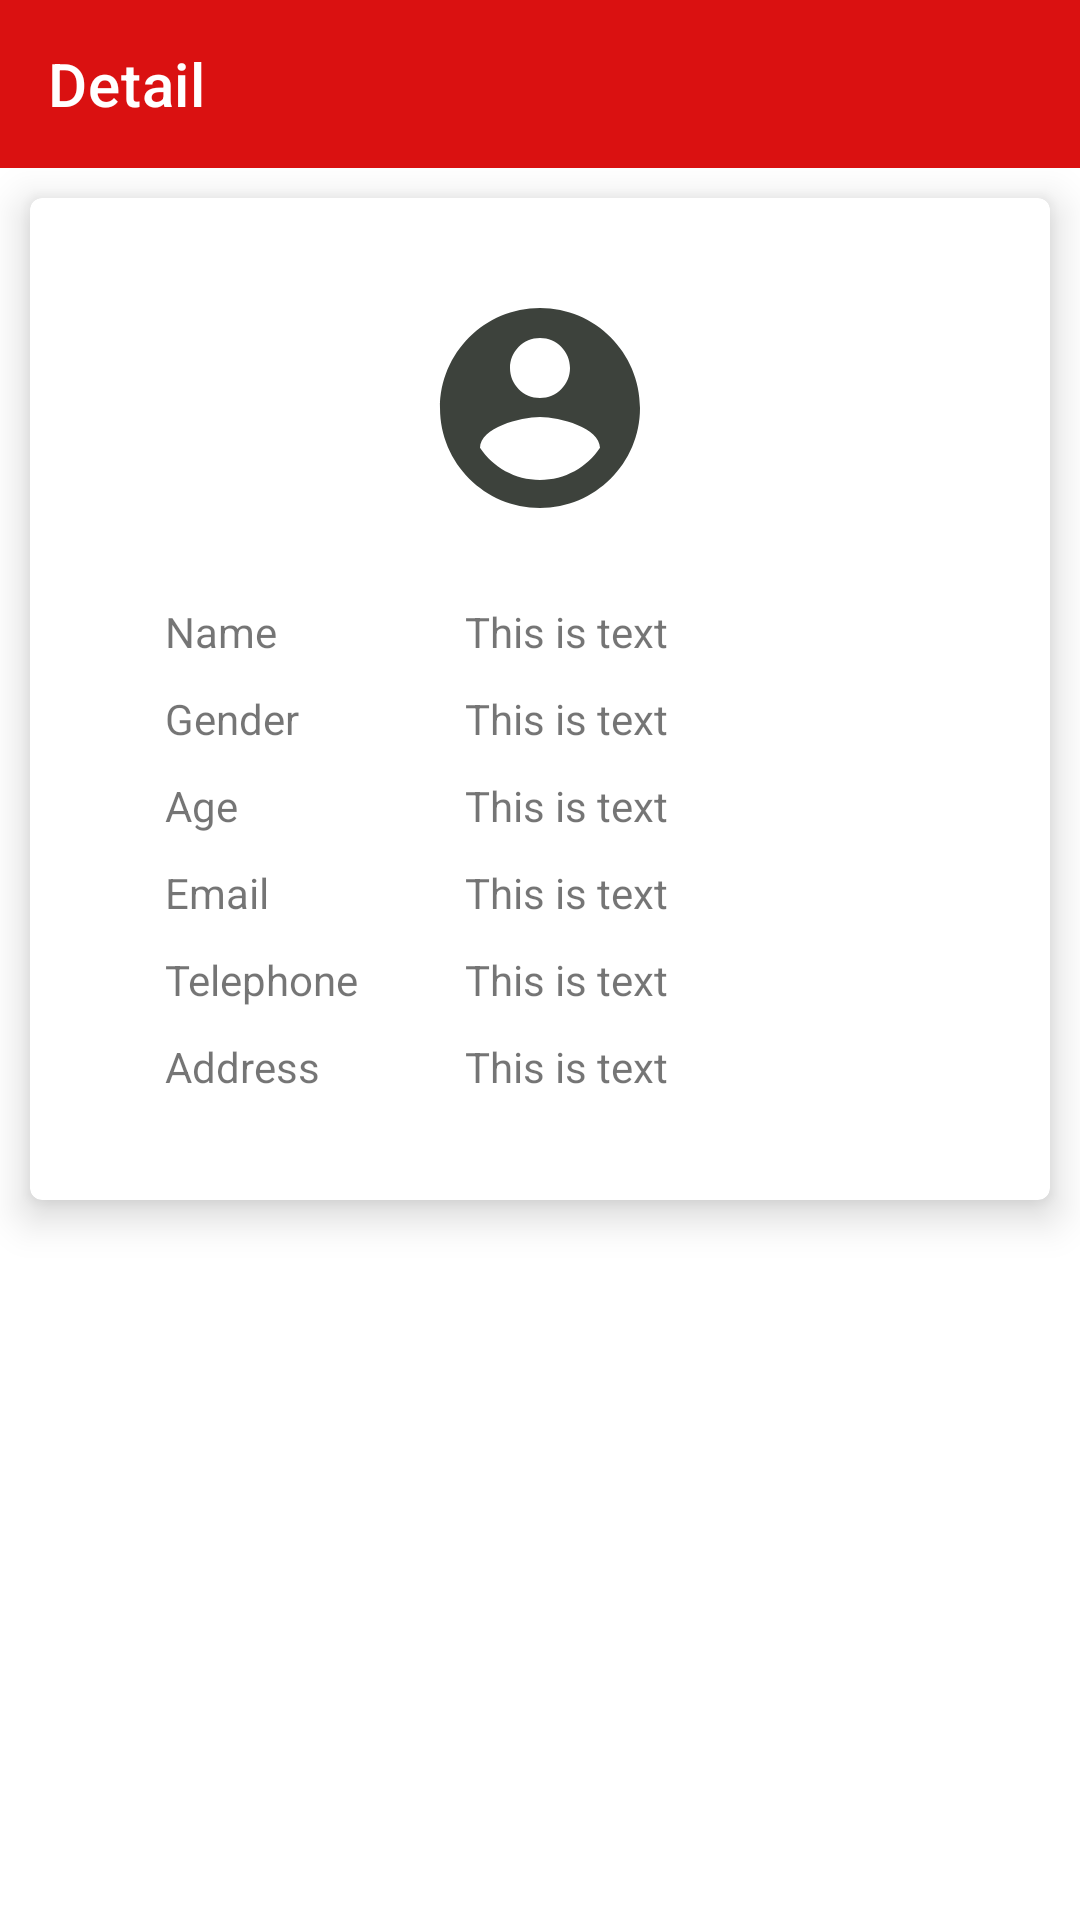

Where to tap for icons on this 1080x1920 app screen, as (x,y):
account circle: (540,408)
